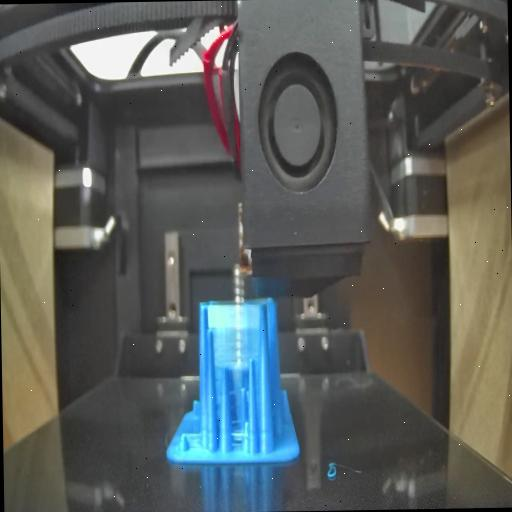stringing: (207, 302, 262, 366), (226, 372, 248, 454)
